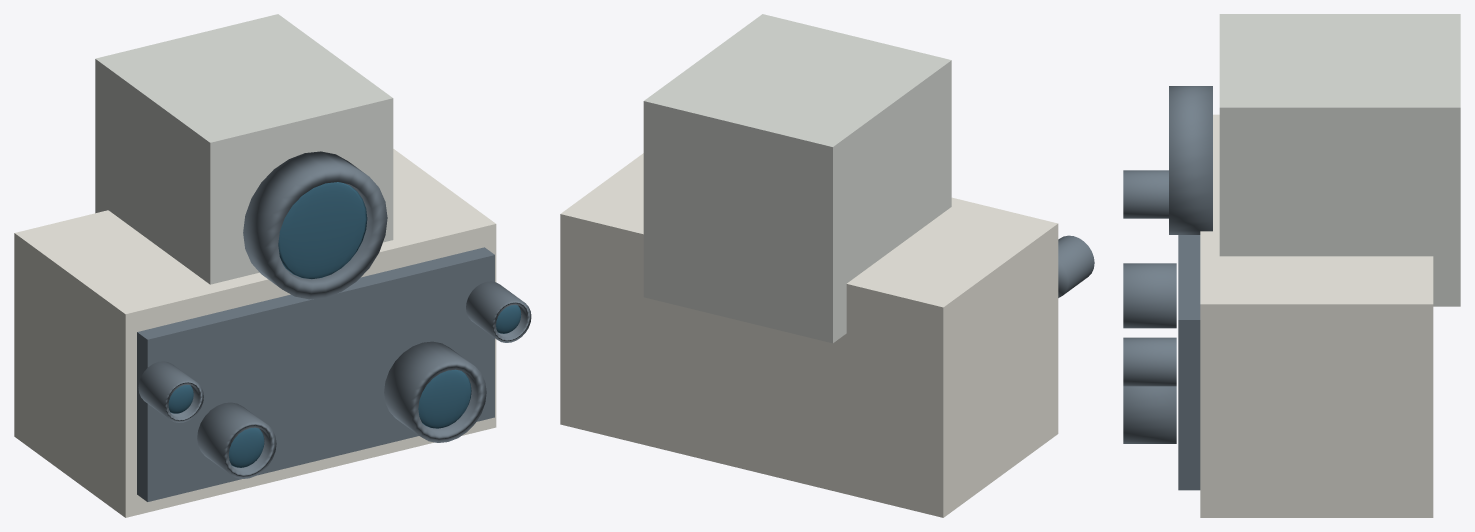
Rendered from curiosity_mast.deployment.azimuth.head.glb.
3 views of the same model, side by side, from view 1: azimuth 30°, elevation 25°; view 2: azimuth 150°, elevation 25°; view 3: azimuth 270°, elevation 25° (orthographic). The views are drawn at different scales.
Visible parts, largest first — view 1: curiosity_mast.deployment.azimuth.head.chemcam.mesh_Pale_the, curiosity_mast.deployment.azimuth.head.mesh_Warm_white_ename, curiosity_mast.deployment.azimuth.head.mesh_Machined_steel, curiosity_mast.deployment.azimuth.head.chemcam.telescope.mes, curiosity_mast.deployment.azimuth.head.chemcam.telescope.len, curiosity_mast.deployment.azimuth.head.mastcam_100.mesh_Mach, curiosity_mast.deployment.azimuth.head.mastcam_34.mesh_Machi, curiosity_mast.deployment.azimuth.head.mastcam_100.lens.mesh, curiosity_mast.deployment.azimuth.head.navcam_l.mesh_Machine, curiosity_mast.deployment.azimuth.head.navcam_r.mesh_Machine, curiosity_mast.deployment.azimuth.head.mastcam_34.lens.mesh_; view 2: curiosity_mast.deployment.azimuth.head.mesh_Warm_white_ename, curiosity_mast.deployment.azimuth.head.chemcam.mesh_Pale_the, curiosity_mast.deployment.azimuth.head.navcam_l.mesh_Machine; view 3: curiosity_mast.deployment.azimuth.head.mesh_Warm_white_ename, curiosity_mast.deployment.azimuth.head.chemcam.mesh_Pale_the, curiosity_mast.deployment.azimuth.head.chemcam.telescope.mes, curiosity_mast.deployment.azimuth.head.mesh_Machined_steel, curiosity_mast.deployment.azimuth.head.mastcam_34.mesh_Machi, curiosity_mast.deployment.azimuth.head.mastcam_100.mesh_Mach, curiosity_mast.deployment.azimuth.head.navcam_r.mesh_Machine, curiosity_mast.deployment.azimuth.head.navcam_l.mesh_Machine.
Part boxes in pixels (x1=…): curiosity_mast.deployment.azimuth.head.chemcam.mesh_Pale_the: x1=95, y1=14, x2=393, y2=284; curiosity_mast.deployment.azimuth.head.mesh_Warm_white_ename: x1=14, y1=149, x2=496, y2=517; curiosity_mast.deployment.azimuth.head.mesh_Machined_steel: x1=137, y1=247, x2=494, y2=501; curiosity_mast.deployment.azimuth.head.chemcam.telescope.mes: x1=243, y1=151, x2=387, y2=299; curiosity_mast.deployment.azimuth.head.chemcam.telescope.len: x1=278, y1=182, x2=367, y2=279; curiosity_mast.deployment.azimuth.head.mastcam_100.mesh_Mach: x1=384, y1=341, x2=486, y2=442; curiosity_mast.deployment.azimuth.head.mastcam_34.mesh_Machi: x1=197, y1=402, x2=276, y2=478; curiosity_mast.deployment.azimuth.head.mastcam_100.lens.mesh: x1=418, y1=369, x2=471, y2=428; curiosity_mast.deployment.azimuth.head.navcam_l.mesh_Machine: x1=138, y1=361, x2=203, y2=422; curiosity_mast.deployment.azimuth.head.navcam_r.mesh_Machine: x1=466, y1=281, x2=531, y2=342; curiosity_mast.deployment.azimuth.head.mastcam_34.lens.mesh_: x1=228, y1=427, x2=264, y2=467; curiosity_mast.deployment.azimuth.head.mesh_Warm_white_ename: x1=560, y1=153, x2=1058, y2=517; curiosity_mast.deployment.azimuth.head.chemcam.mesh_Pale_the: x1=643, y1=14, x2=951, y2=343; curiosity_mast.deployment.azimuth.head.navcam_l.mesh_Machine: x1=1058, y1=235, x2=1094, y2=297; curiosity_mast.deployment.azimuth.head.mesh_Warm_white_ename: x1=1200, y1=114, x2=1433, y2=517; curiosity_mast.deployment.azimuth.head.chemcam.mesh_Pale_the: x1=1219, y1=14, x2=1460, y2=306; curiosity_mast.deployment.azimuth.head.chemcam.telescope.mes: x1=1169, y1=86, x2=1212, y2=234; curiosity_mast.deployment.azimuth.head.mesh_Machined_steel: x1=1178, y1=235, x2=1200, y2=490; curiosity_mast.deployment.azimuth.head.mastcam_34.mesh_Machi: x1=1123, y1=263, x2=1176, y2=328; curiosity_mast.deployment.azimuth.head.mastcam_100.mesh_Mach: x1=1123, y1=386, x2=1176, y2=443; curiosity_mast.deployment.azimuth.head.navcam_r.mesh_Machine: x1=1123, y1=337, x2=1176, y2=386; curiosity_mast.deployment.azimuth.head.navcam_l.mesh_Machine: x1=1123, y1=170, x2=1168, y2=218.
Bounding box in the file's own units: 0.48 × 0.4275 × 0.361.
